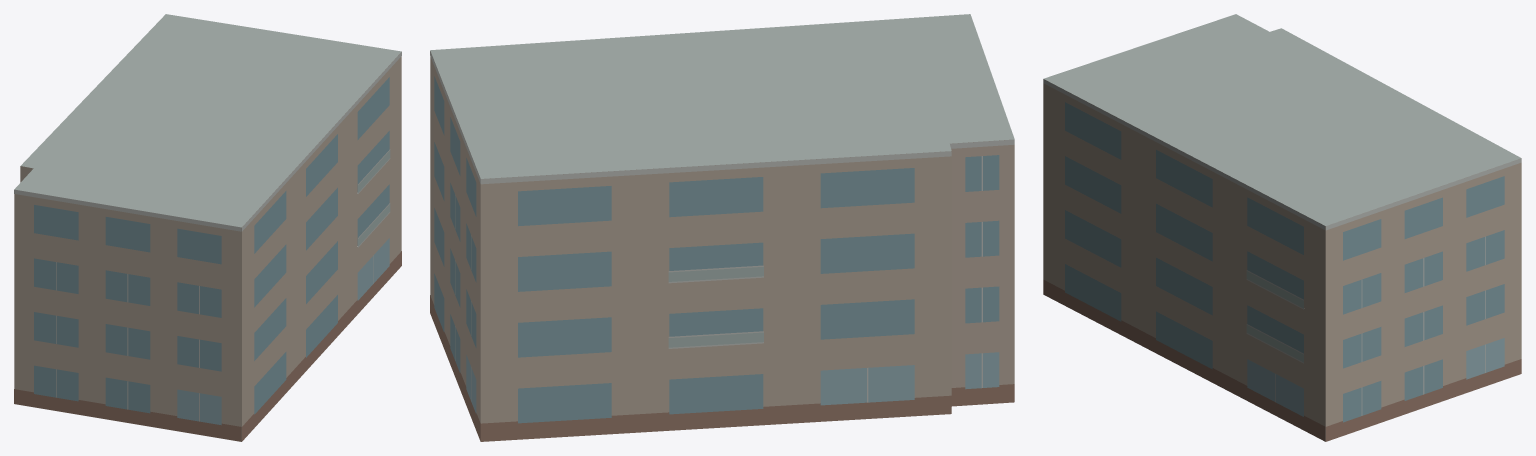
File: survey-upis-32923730.glb
3 views of the same model, side by side, from view 1: azimuth 30°, elevation 25°; view 2: azimuth 150°, elevation 25°; view 3: azimuth 270°, elevation 25° (orthographic). The views are drawn at different scales.
Parts seen in each view (by area): view 1: survey-upis-32923730.tmp; view 2: survey-upis-32923730.tmp; view 3: survey-upis-32923730.tmp.
Boxes of the visible parts, bbox=[...] form: survey-upis-32923730.tmp: bbox=[14, 14, 401, 441]; survey-upis-32923730.tmp: bbox=[430, 14, 1014, 441]; survey-upis-32923730.tmp: bbox=[1043, 14, 1521, 441].
Size of the model in its own units: 25.53 by 12.1 by 24.32.
